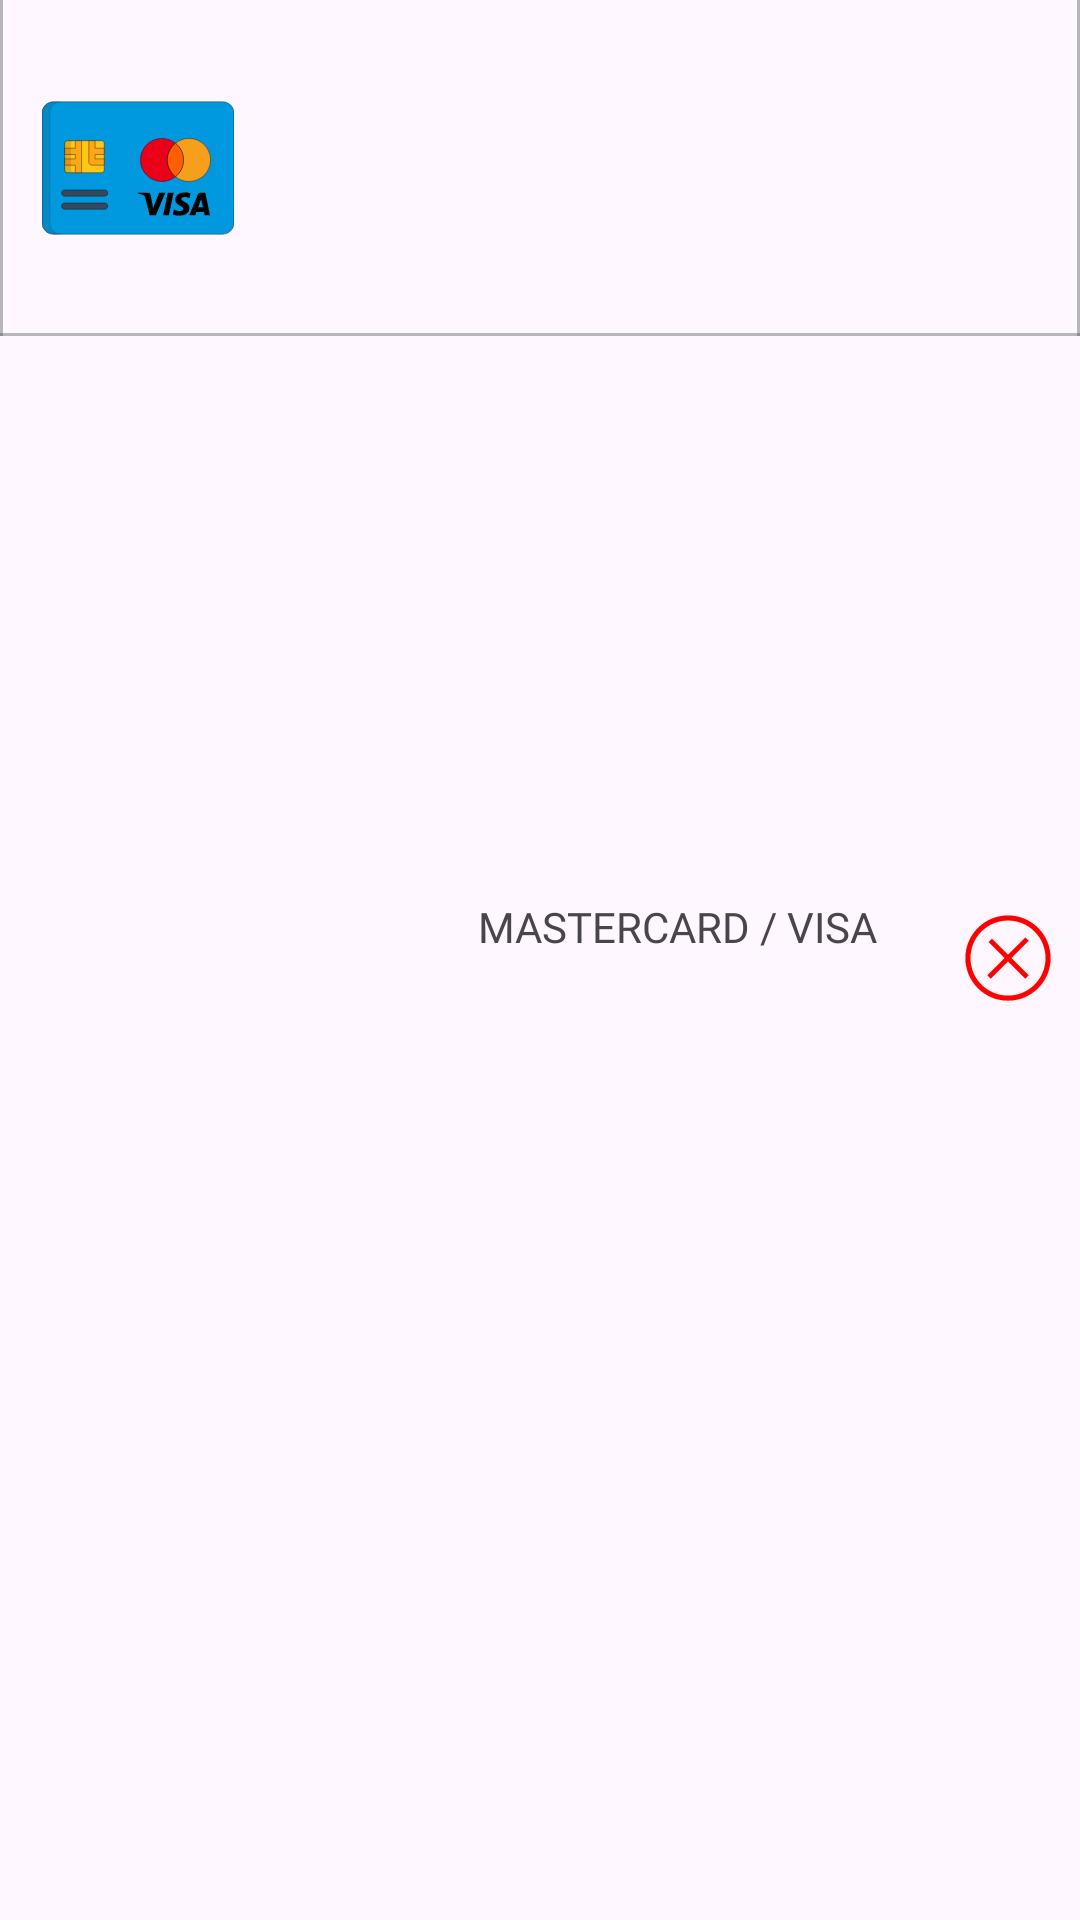

Icons on this 1080*1920 Android screen, each with its box as [x1=x1, y1=y1, x2=x2, y2=y2]:
delete: [x1=965, y1=915, x2=1051, y2=1001]
